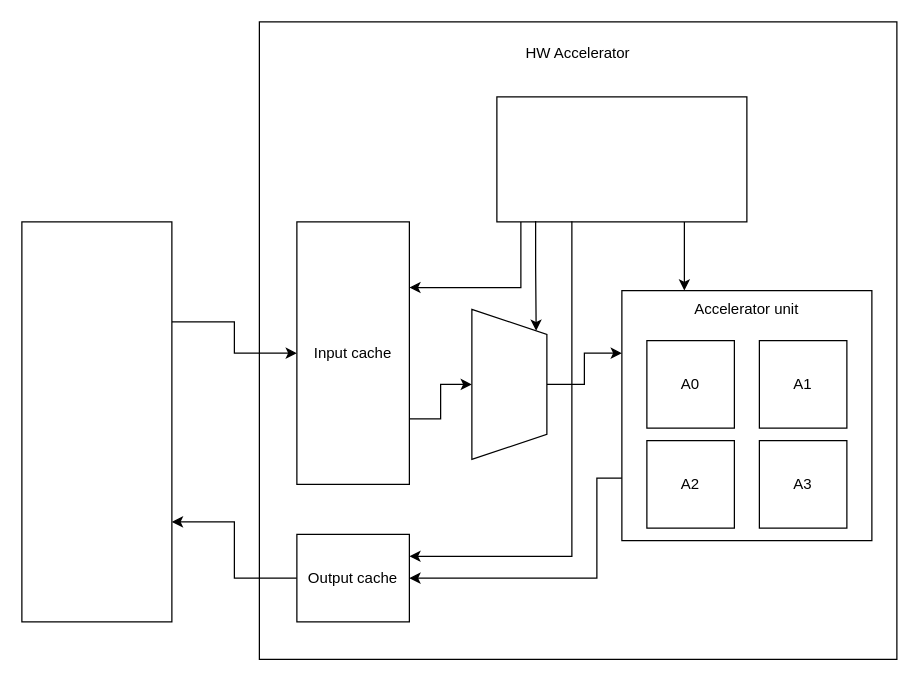
This 919x681 diagram has some shape labels left out. The shapes that lost their labels are listed below. From the top down, each one's centre as x and y in pixels, then its label:
the point at 621,159: Control Logic
the point at 509,383: Cache decoder
the point at 96,421: RAM
